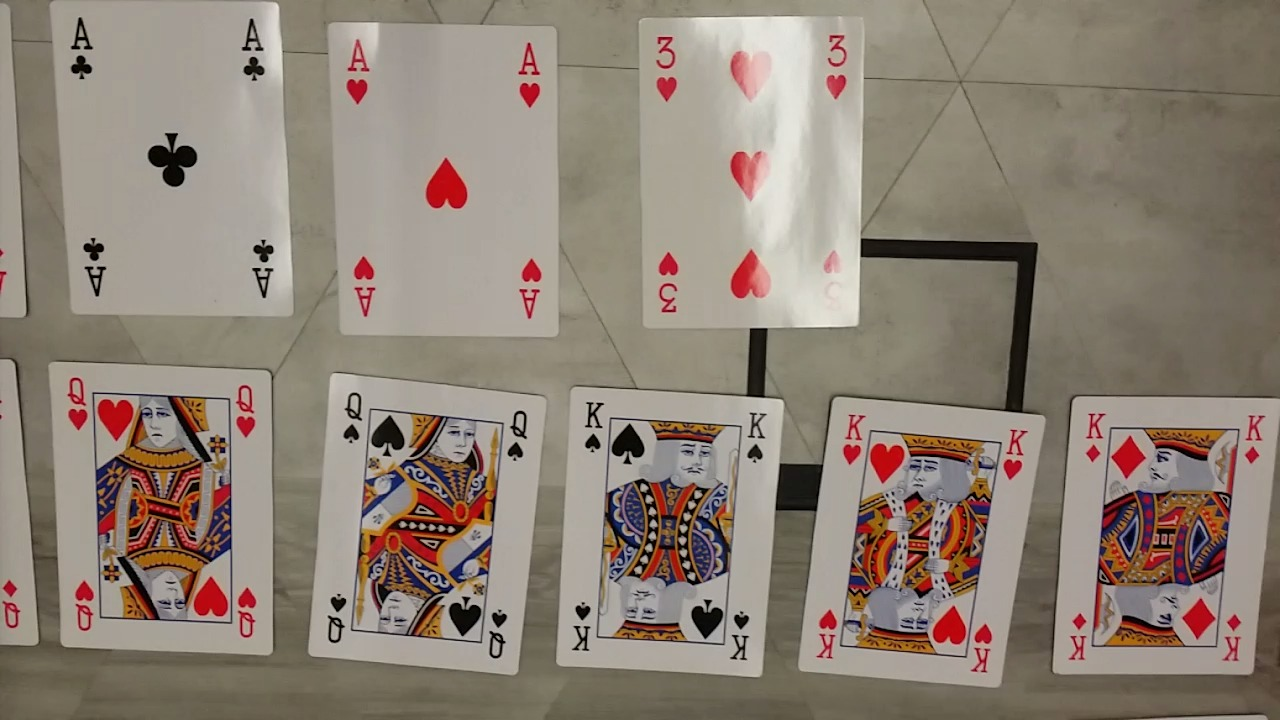1_club: (51, 0, 292, 319)
1_heart: (325, 17, 562, 339)
3_heart: (636, 13, 863, 329)
king_diamond: (1050, 393, 1280, 676)
king_heart: (793, 391, 1058, 690)
king_spade: (546, 387, 786, 686)
queen_heart: (44, 355, 279, 658)
queen_spade: (308, 367, 550, 672)
